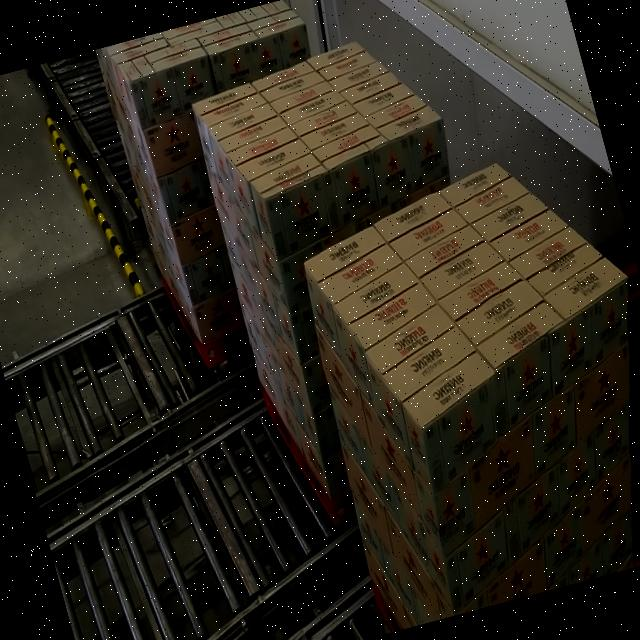pallet: (272, 124, 640, 633), (180, 17, 538, 538), (89, 0, 393, 383)
